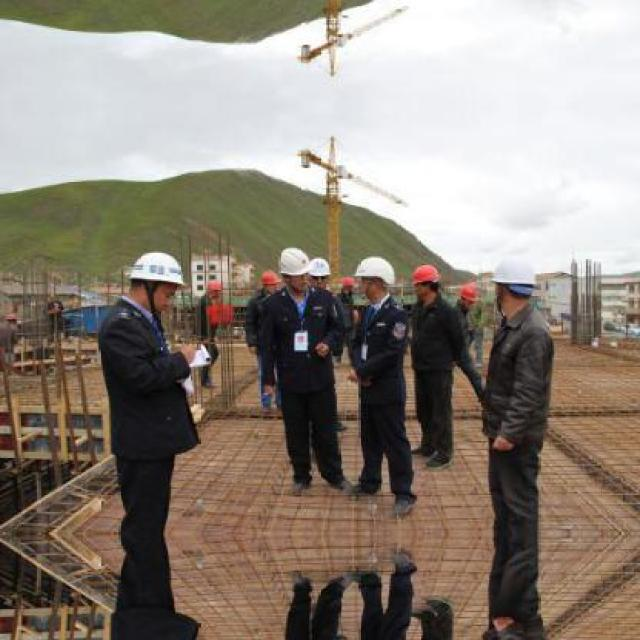helmet: (123, 250, 188, 318), (486, 254, 539, 314), (353, 254, 398, 297), (279, 244, 312, 288), (410, 264, 439, 302), (308, 254, 329, 290), (260, 268, 282, 294), (456, 282, 476, 310), (202, 278, 223, 297), (340, 274, 354, 295)
